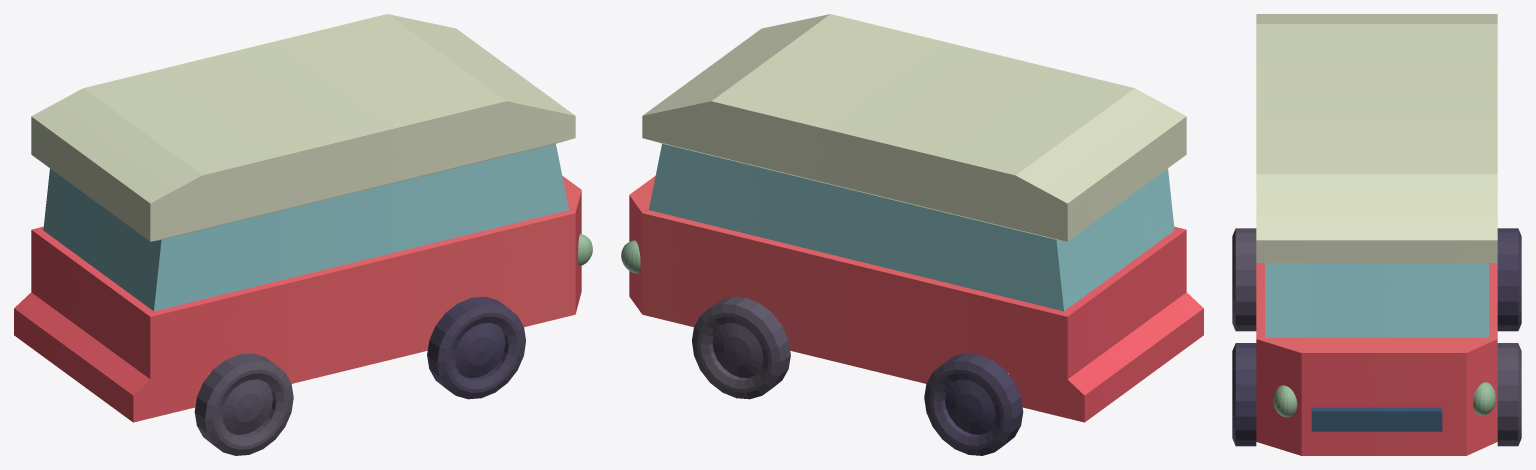
File: PR_Bus.fbx
The picture shows the model from 3 angles, left to right: view 1: azimuth 30°, elevation 25°; view 2: azimuth 150°, elevation 25°; view 3: azimuth 270°, elevation 25°; orthographic projection.
Parts seen in each view (by area): view 1: PR_Bus_1; view 2: PR_Bus_1; view 3: PR_Bus_1.
Boxes of the visible parts, x1=… form: PR_Bus_1: x1=14, y1=14, x2=592, y2=455; PR_Bus_1: x1=621, y1=14, x2=1203, y2=455; PR_Bus_1: x1=1232, y1=14, x2=1521, y2=455.
Size of the model in its own units: 350 by 197 by 181.
1 material, 1 textured.
